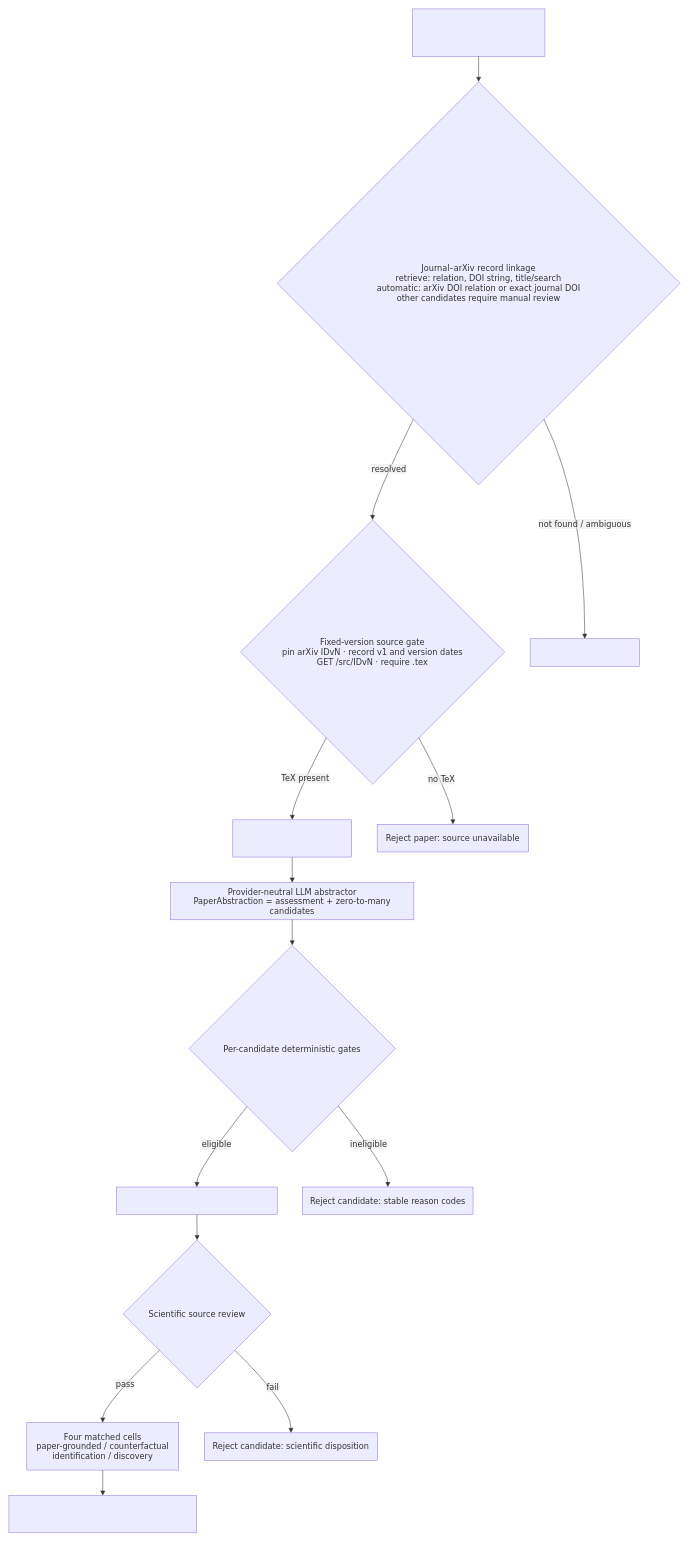
Some shapes in this 689 by 1542 pixel diagram are drawn without their labels. The shapes that lost their labels are listed below. From the top down, each one's centre as x and y in pixels, then its label:
At (x=478, y=32): "Journal census Nature · Science · PRL fixed inclusive date window".
At (x=584, y=652): "Reject paper: linkage".
At (x=292, y=838): "Path-sorted TeX bundle file-delimited LLM input".
At (x=196, y=1201): "Render one matched family module".
At (x=102, y=1514): "Private date-named cohort cluster by source paper · report full funnel".
